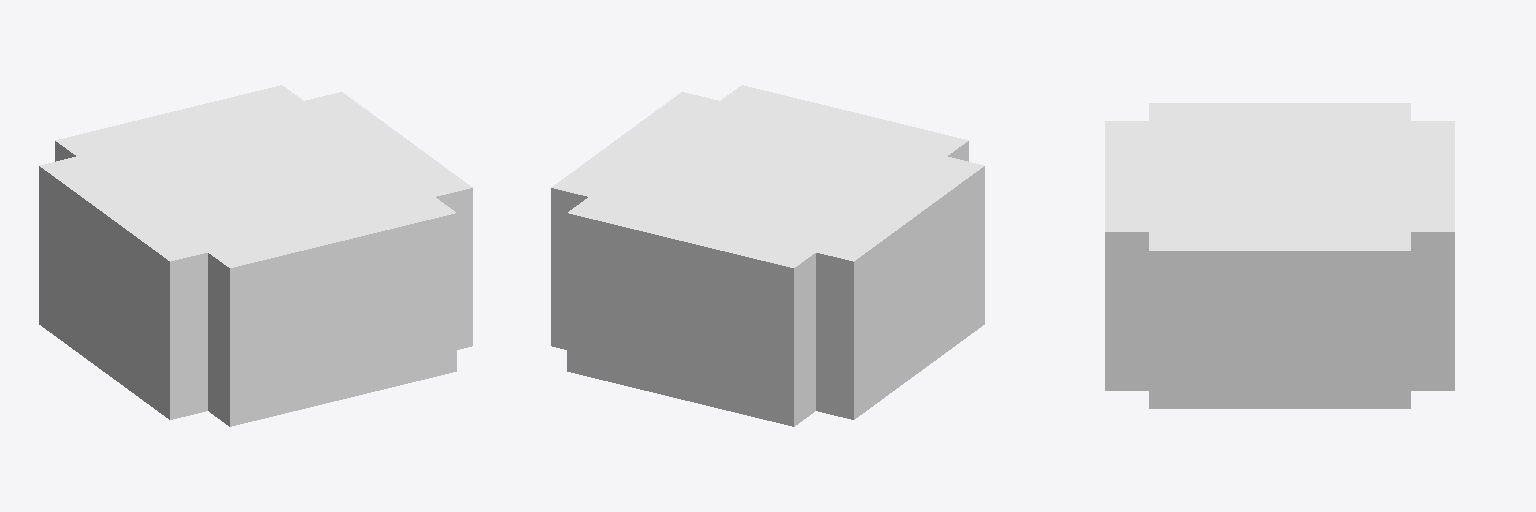
The model's file is Witch_Pants.obj.
3 views of the same model, side by side, from view 1: azimuth 30°, elevation 25°; view 2: azimuth 150°, elevation 25°; view 3: azimuth 270°, elevation 25° (orthographic).
Visible parts, largest first — view 1: object 1; view 2: object 1; view 3: object 1.
Part boxes in pixels (x1,y1,x2,y2): object 1: (39, 85, 472, 426); object 1: (551, 85, 984, 426); object 1: (1105, 103, 1454, 408).
Bounding box in the file's own units: 0.8 × 0.4 × 0.8.